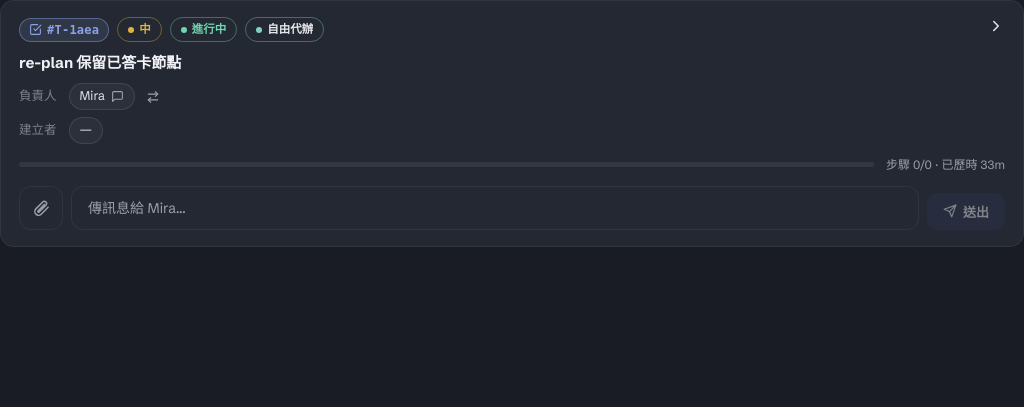
it: TaskCard edge ③ — all-superseded task reports 0/0 (T-1aea) › shows loading (never 「等待建立 Steps」) while the 0/0 detail hydrates, then the frozen timeline
The image size is (1024, 407).
Click the button with test id "task-card" at (512,232), box [0, 0, 1023, 247]
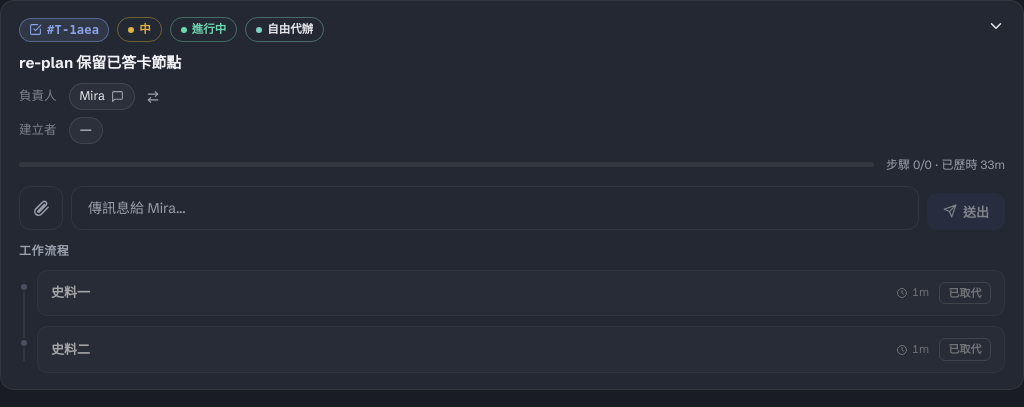
expect the element with test id "task-steps-loading" is shown: met, box [19, 270, 1005, 373]
